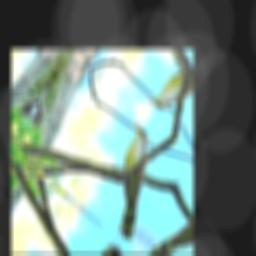Cuckoo: (85, 122, 178, 244)
